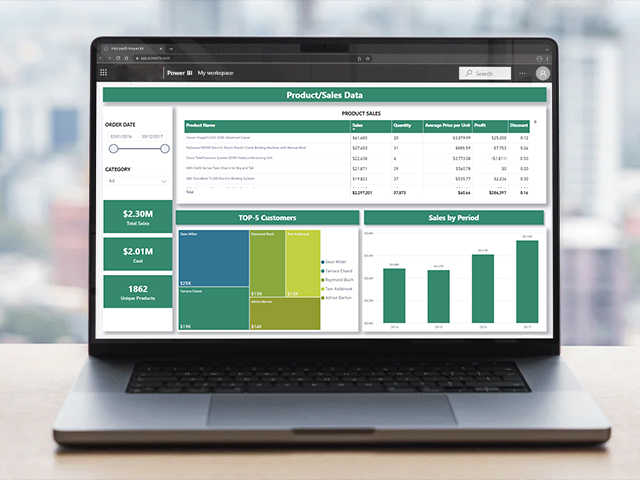

Layout of this report page (visuals, bound fields, positions):
{"tool":"powerbi","page":{"name":"Sales & Product Analysis","canvas":[1280,720],"ordinal":1},"visuals":[{"type":"basicShape","box":[217.8,65,1048.3,276.7],"z":0,"group":"g2"},{"type":"group","id":"g1","title":"Donut","box":[217.9,409.4,515,294.3],"z":0},{"type":"group","id":"g2","title":"Table","box":[217.8,65,1048.3,276.7],"z":1000},{"type":"textbox","title":"PRODUCT SALES","box":[238,76.8,1008.5,41.6],"z":2000,"group":"g2"},{"type":"group","id":"g3","title":"Stacked Column Chart","box":[745,409.4,522.2,294.3],"z":3000},{"type":"pivotTable","fields":{"Values":["Sum(Orders.Sales)","Sum(Orders.Quantity)","Orders.Price per Unit","Sum(Orders.Profit)","Avg(Orders.Discount)"],"Rows":["Orders.Product Name"]},"box":[236.5,99.3,1008.5,229.9],"z":3500,"group":"g2"},{"type":"shape","title":"Orders Data, Analysis and Breakdown","box":[10,11.7,1256.7,41.7],"z":4000},{"type":"shape","box":[10,66.7,196.7,636.7],"z":5000},{"type":"treemap","title":"TOP-5 CUSTOMERS","fields":{"Values":["Sum(Orders.Sales)"],"Group":["Orders.Customer Name"]},"box":[217.9,409.4,515,294.3],"z":5000,"group":"g1"},{"type":"slicer","title":"ORDER DATE","fields":{"Values":["Orders.Order Date"]},"box":[11.6,108.1,195.3,101.5],"z":6000},{"type":"card","fields":{"Values":["Orders.Total Sales"]},"box":[11.6,330.7,195.3,93.9],"z":7000},{"type":"columnChart","title":"SALES BY MONTHS","fields":{"Y":["Sum(Orders.Sales)"],"Category":["Orders.Order Date.Variation.Date Hierarchy.Year","Orders.Order Date.Variation.Date Hierarchy.Month"]},"box":[745,409.4,522.2,294.3],"z":7500,"group":"g3"},{"type":"card","fields":{"Values":["Orders.Cost"]},"box":[11.6,436.7,195.3,93.9],"z":8000},{"type":"slicer","title":"CATEGORY","fields":{"Values":["Orders.Category","Orders.Sub-Category"]},"box":[11.6,233.8,195.3,84.8],"z":9000},{"type":"card","fields":{"Values":["Orders.Unique Products"]},"box":[11.7,543.3,195,93.3],"z":10000},{"type":"shape","box":[207.4,351,537.9,59.1],"z":11000},{"type":"shape","box":[740.5,351,527,59.1],"z":12000}]}

Visuals, with their boxes on the page's 1280x720 design canvas (x1, y1, x2, y2). These are canvas units, not pixel positions in the 640x480 screenshot, which may show the page scaled, cropped or inside an application window:
basicShape: Rect(218, 65, 1266, 342)
"Donut" group: Rect(218, 409, 733, 704)
"Table" group: Rect(218, 65, 1266, 342)
"PRODUCT SALES" textbox: Rect(238, 77, 1246, 118)
"Stacked Column Chart" group: Rect(745, 409, 1267, 704)
pivotTable - Sum(Orders.Sales) x Sum(Orders.Quantity): Rect(236, 99, 1245, 329)
"Orders Data, Analysis and Breakdown" shape: Rect(10, 12, 1267, 53)
shape: Rect(10, 67, 207, 703)
"TOP-5 CUSTOMERS" treemap: Rect(218, 409, 733, 704)
"ORDER DATE" slicer: Rect(12, 108, 207, 210)
card - Orders.Total Sales: Rect(12, 331, 207, 425)
"SALES BY MONTHS" columnChart: Rect(745, 409, 1267, 704)
card - Orders.Cost: Rect(12, 437, 207, 531)
"CATEGORY" slicer: Rect(12, 234, 207, 319)
card - Orders.Unique Products: Rect(12, 543, 207, 637)
shape: Rect(207, 351, 745, 410)
shape: Rect(740, 351, 1268, 410)
